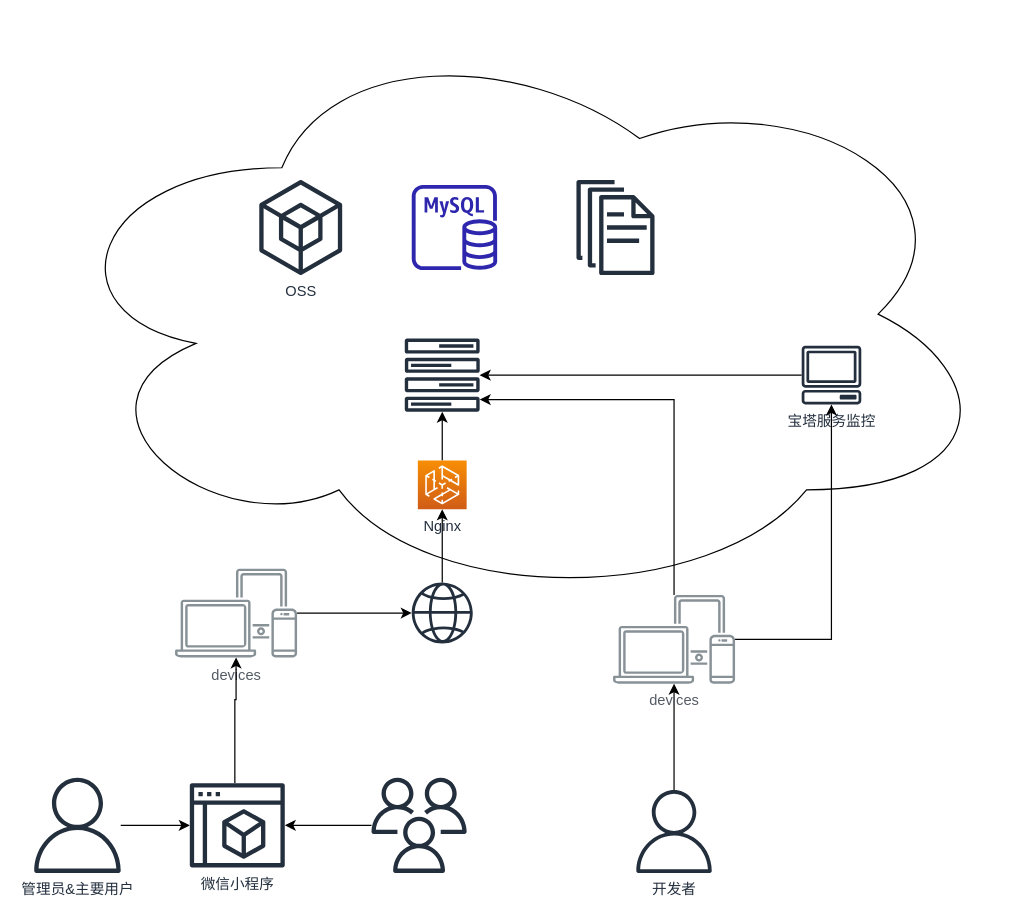
Some shapes in this 1019 by 920 pixel diagram are drawn without their labels. Here are the shapes that lost their labels. From the top down, the centre of each, then its label:
At [454,227]: "mysql".
At [615,226]: "CDN".
At [441,374]: "服务器".
At [418,824]: "其他授权用户".
